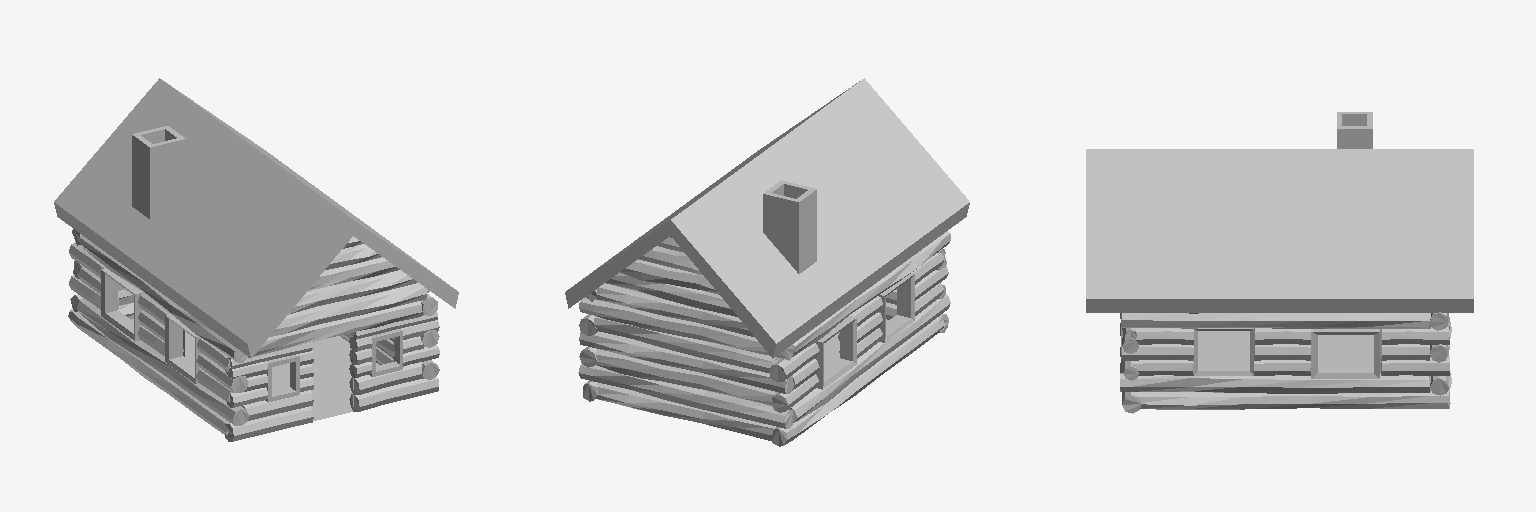
The model's file is cabana_final.obj.
3 views of the same model, side by side, from view 1: azimuth 30°, elevation 25°; view 2: azimuth 150°, elevation 25°; view 3: azimuth 270°, elevation 25° (orthographic).
Visible parts, largest first — view 1: Roof_Cube.005, Chamine_Cube.004, House_Cube.001, log_base.005_Cylinder.015, log_base.026_Cylinder.047, log_base.025_Cylinder.046, log_base.004_Cylinder.014, log_base.007_Cylinder.017, log_base.027_Cylinder.048, Frame_Window_Front_Cube.009, Frame_Win_Side2_Cube.014, log_to_cut.021_Cylinder.052 (+10 smaller); view 2: Roof_Cube.005, Chamine_Cube.004, log_base.009_Cylinder.028, log_base.011_Cylinder.030, log_base.013_Cylinder.032, log_base.010_Cylinder.029, log_base.012_Cylinder.031, log_base.008_Cylinder.027, log_base.005_Cylinder.015, log_base.004_Cylinder.014, log_base.014_Cylinder.033, log_base.007_Cylinder.017 (+7 smaller); view 3: Roof_Cube.005, log_base.001_Cylinder.003, log_base_Cylinder.001, log_base.003_Cylinder.005, House_Cube.001, Frame_Win_Side2_Cube.014, Chamine_Cube.004, Frame_Win_Side1_Cube.013, log_to_cut.007_Cylinder.012, log_to_cut.006_Cylinder.011, log_to_cut.002_Cylinder.007, log_to_cut_Cylinder.002 (+5 smaller).
Part boxes in pixels (left/top/right/bottom): Roof_Cube.005: left=54, top=78, right=458, bottom=358; Chamine_Cube.004: left=132, top=126, right=185, bottom=218; House_Cube.001: left=118, top=284, right=394, bottom=420; log_base.005_Cylinder.015: left=77, top=298, right=249, bottom=425; log_base.026_Cylinder.047: left=270, top=282, right=426, bottom=336; log_base.025_Cylinder.046: left=248, top=301, right=423, bottom=357; log_base.004_Cylinder.014: left=68, top=309, right=229, bottom=435; log_base.007_Cylinder.017: left=79, top=235, right=247, bottom=362; log_base.027_Cylinder.048: left=288, top=270, right=416, bottom=314; Frame_Window_Front_Cube.009: left=265, top=329, right=402, bottom=402; Frame_Win_Side2_Cube.014: left=101, top=268, right=143, bottom=341; log_to_cut.021_Cylinder.052: left=349, top=376, right=438, bottom=411; Roof_Cube.005: left=565, top=78, right=969, bottom=358; Chamine_Cube.004: left=763, top=180, right=816, bottom=273; log_base.009_Cylinder.028: left=578, top=364, right=793, bottom=428; log_base.011_Cylinder.030: left=579, top=331, right=793, bottom=393; log_base.013_Cylinder.032: left=579, top=297, right=793, bottom=360; log_base.010_Cylinder.029: left=596, top=349, right=777, bottom=404; log_base.012_Cylinder.031: left=594, top=316, right=780, bottom=372; log_base.008_Cylinder.027: left=596, top=382, right=776, bottom=440; log_base.005_Cylinder.015: left=789, top=294, right=950, bottom=422; log_base.004_Cylinder.014: left=772, top=317, right=944, bottom=446; log_base.014_Cylinder.033: left=596, top=283, right=753, bottom=336; log_base.007_Cylinder.017: left=792, top=231, right=950, bottom=356; Roof_Cube.005: left=1086, top=149, right=1473, bottom=312; log_base.001_Cylinder.003: left=1120, top=373, right=1430, bottom=393; log_base_Cylinder.001: left=1133, top=390, right=1450, bottom=409; log_base.003_Cylinder.005: left=1121, top=313, right=1430, bottom=328; House_Cube.001: left=1198, top=329, right=1381, bottom=372; Frame_Win_Side2_Cube.014: left=1311, top=329, right=1379, bottom=378; Chamine_Cube.004: left=1337, top=112, right=1372, bottom=148; Frame_Win_Side1_Cube.013: left=1193, top=328, right=1253, bottom=375; log_to_cut.007_Cylinder.012: left=1381, top=356, right=1449, bottom=375; log_to_cut.006_Cylinder.011: left=1381, top=326, right=1449, bottom=344; log_to_cut.002_Cylinder.007: left=1121, top=344, right=1193, bottom=360; log_to_cut_Cylinder.002: left=1132, top=328, right=1193, bottom=344.
Bounding box in the file's own units: 2.97 × 2.83 × 4.65.